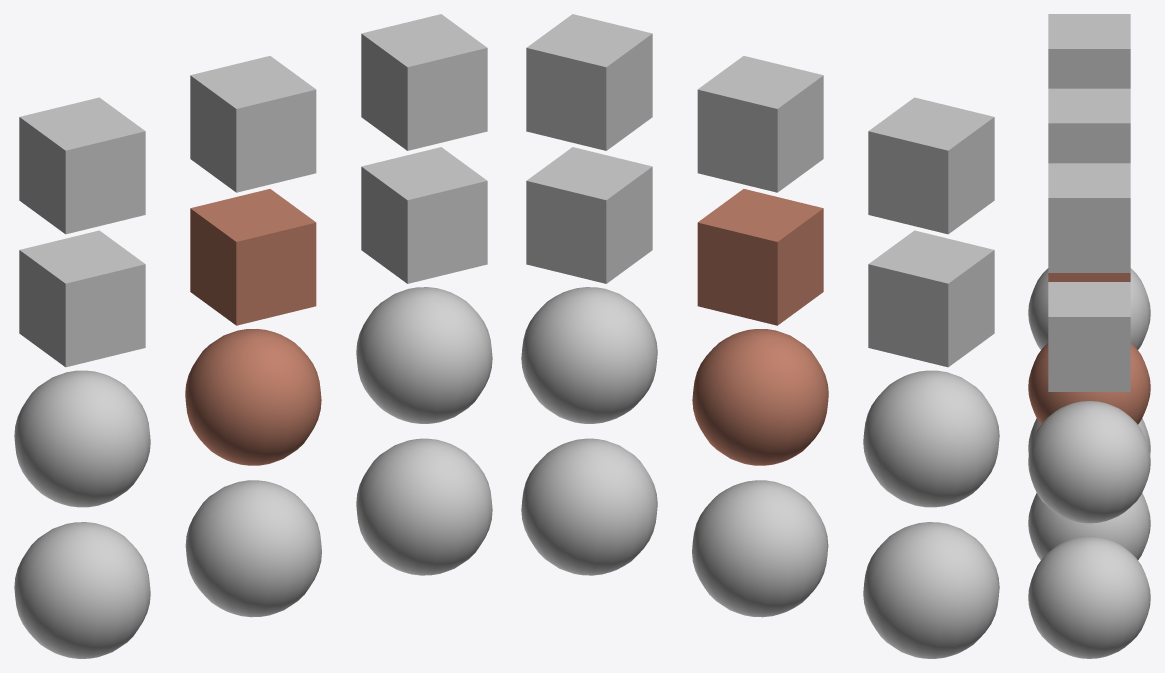
The model's file is pbrstingray.gltf.
3 views of the same model, side by side, from view 1: azimuth 30°, elevation 25°; view 2: azimuth 150°, elevation 25°; view 3: azimuth 270°, elevation 25° (orthographic). The views are drawn at different scales.
Visible parts, largest first — view 1: pSphere6, pSphere1, pSphere3, pSphere5, pSphere4, pSphere2, pCube2, pCube5, pCube3, pCube6, pCube1, pCube4; view 2: pSphere6, pSphere1, pSphere3, pSphere5, pSphere4, pSphere2, pCube2, pCube5, pCube3, pCube6, pCube1, pCube4; view 3: pSphere4, pSphere1, pCube2, pCube6, pCube4, pCube5, pSphere2, pSphere5, pSphere6, pCube1, pSphere3.
Boxes of the visible parts, left/top/right/bottom form: pSphere6: left=14, top=370, right=150, bottom=507; pSphere1: left=356, top=438, right=492, bottom=575; pSphere3: left=14, top=522, right=150, bottom=658; pSphere5: left=185, top=329, right=321, bottom=465; pSphere4: left=356, top=287, right=492, bottom=423; pSphere2: left=185, top=480, right=321, bottom=617; pCube2: left=361, top=147, right=487, bottom=283; pCube5: left=19, top=97, right=145, bottom=234; pCube3: left=19, top=230, right=145, bottom=367; pCube6: left=361, top=14, right=487, bottom=150; pCube1: left=190, top=189, right=316, bottom=325; pCube4: left=190, top=56, right=316, bottom=192; pSphere6: left=863, top=370, right=999, bottom=507; pSphere1: left=521, top=438, right=657, bottom=575; pSphere3: left=863, top=522, right=999, bottom=658; pSphere5: left=692, top=329, right=828, bottom=465; pSphere4: left=521, top=287, right=657, bottom=423; pSphere2: left=692, top=480, right=828, bottom=617; pCube2: left=526, top=147, right=652, bottom=283; pCube5: left=868, top=97, right=994, bottom=234; pCube3: left=868, top=230, right=994, bottom=367; pCube6: left=526, top=14, right=652, bottom=150; pCube1: left=697, top=189, right=823, bottom=325; pCube4: left=697, top=56, right=823, bottom=192; pSphere4: left=1028, top=401, right=1150, bottom=523; pSphere1: left=1028, top=536, right=1150, bottom=658; pCube2: left=1048, top=282, right=1130, bottom=391; pCube6: left=1048, top=163, right=1130, bottom=272; pCube4: left=1048, top=88, right=1130, bottom=163; pCube5: left=1048, top=14, right=1130, bottom=88; pSphere2: left=1028, top=493, right=1150, bottom=559; pSphere5: left=1028, top=343, right=1150, bottom=424; pSphere6: left=1028, top=268, right=1150, bottom=349; pCube1: left=1048, top=273, right=1130, bottom=281; pSphere3: left=1028, top=418, right=1150, bottom=454.
Size of the model in its own units: 0.2304 by 0.2526 by 0.0594.
